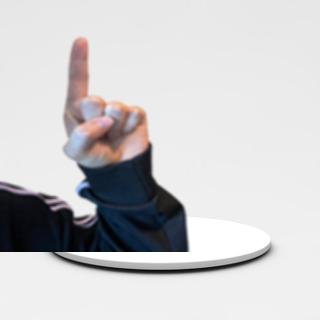IRRITATED: (59, 34, 153, 170)
